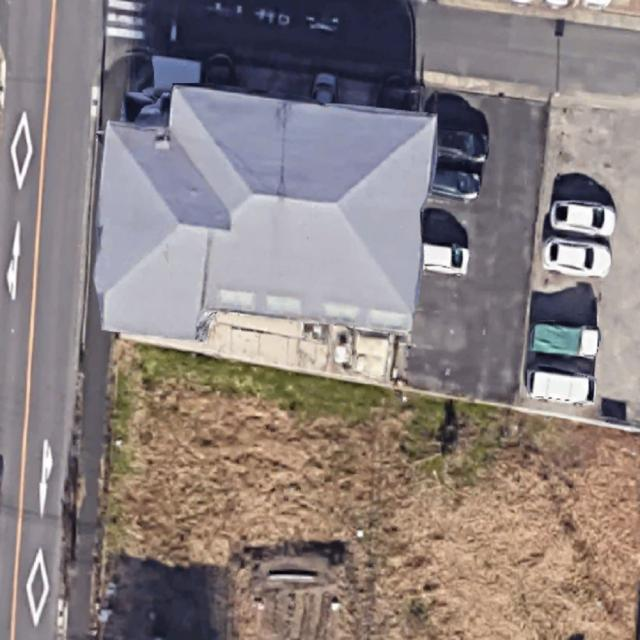Batiment: (94, 57, 436, 380)
